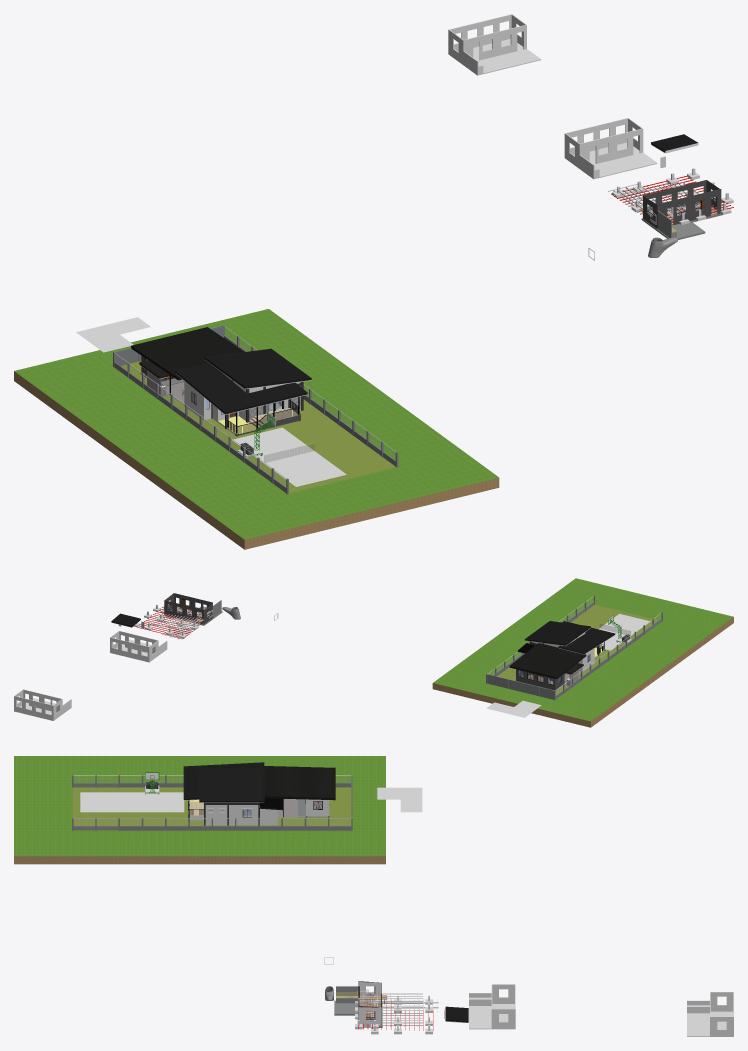
The model's file is engineer_model.glb.
3 renders of one model, top to bottom at view 1: azimuth 30°, elevation 25°; view 2: azimuth 150°, elevation 25°; view 3: azimuth 270°, elevation 25°, orthographic. The views are drawn at different scales.
Parts seen in each view (by area): view 1: C-Component#264, _(Loose Entity), C-Component#350, C-Component#354, C-Component#344, C-Component#251, C-Component#254, C-Component#18, Component#283; view 2: C-Component#264, _(Loose Entity), C-Component#350, C-Component#344, C-Component#254, C-Component#354, C-Component#251, Component#281, C-Component#281, C-Component#258; view 3: C-Component#264, _(Loose Entity), C-Component#350, C-Component#344, C-Component#254, C-Component#354, C-Component#16, C-Component#251, C-Component#341.
Part boxes in pixels (box(x1,y1,x2,y2)): C-Component#264: box(14, 309, 499, 549); _(Loose Entity): box(76, 14, 698, 352); C-Component#350: box(113, 325, 398, 494); C-Component#354: box(232, 427, 346, 486); C-Component#344: box(131, 327, 244, 380); C-Component#251: box(175, 363, 307, 414); C-Component#254: box(204, 348, 311, 388); C-Component#18: box(206, 400, 300, 436); Component#283: box(657, 189, 719, 224); C-Component#264: box(432, 578, 733, 727); _(Loose Entity): box(14, 613, 541, 720); C-Component#350: box(486, 595, 662, 700); C-Component#344: box(509, 643, 586, 678); C-Component#254: box(524, 621, 590, 645); C-Component#354: box(598, 614, 650, 650); C-Component#251: box(558, 621, 615, 653); Component#281: box(164, 600, 203, 624); C-Component#281: box(516, 669, 555, 690); C-Component#258: box(531, 632, 594, 671); C-Component#264: box(14, 756, 385, 864); _(Loose Entity): box(259, 787, 733, 1036); C-Component#350: box(72, 775, 352, 830); C-Component#344: box(264, 766, 335, 800); C-Component#254: box(199, 768, 264, 802); C-Component#354: box(80, 792, 184, 812); C-Component#16: box(203, 803, 277, 825); C-Component#251: box(183, 762, 264, 799); C-Component#341: box(277, 799, 327, 817).
Size of the model in its own units: 86.61 by 5.8 by 92.83.
Materials: 71 (39 with a texture image).
